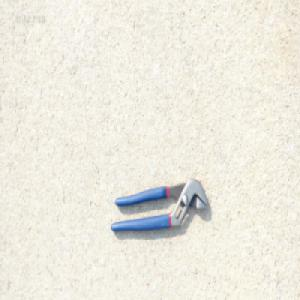Pliers: (110, 175, 211, 231)
